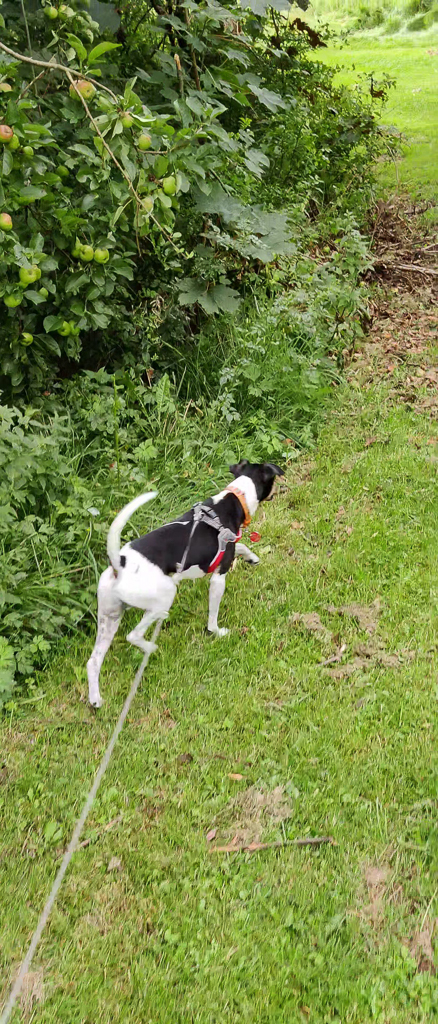Dog: (79, 454, 301, 720)
